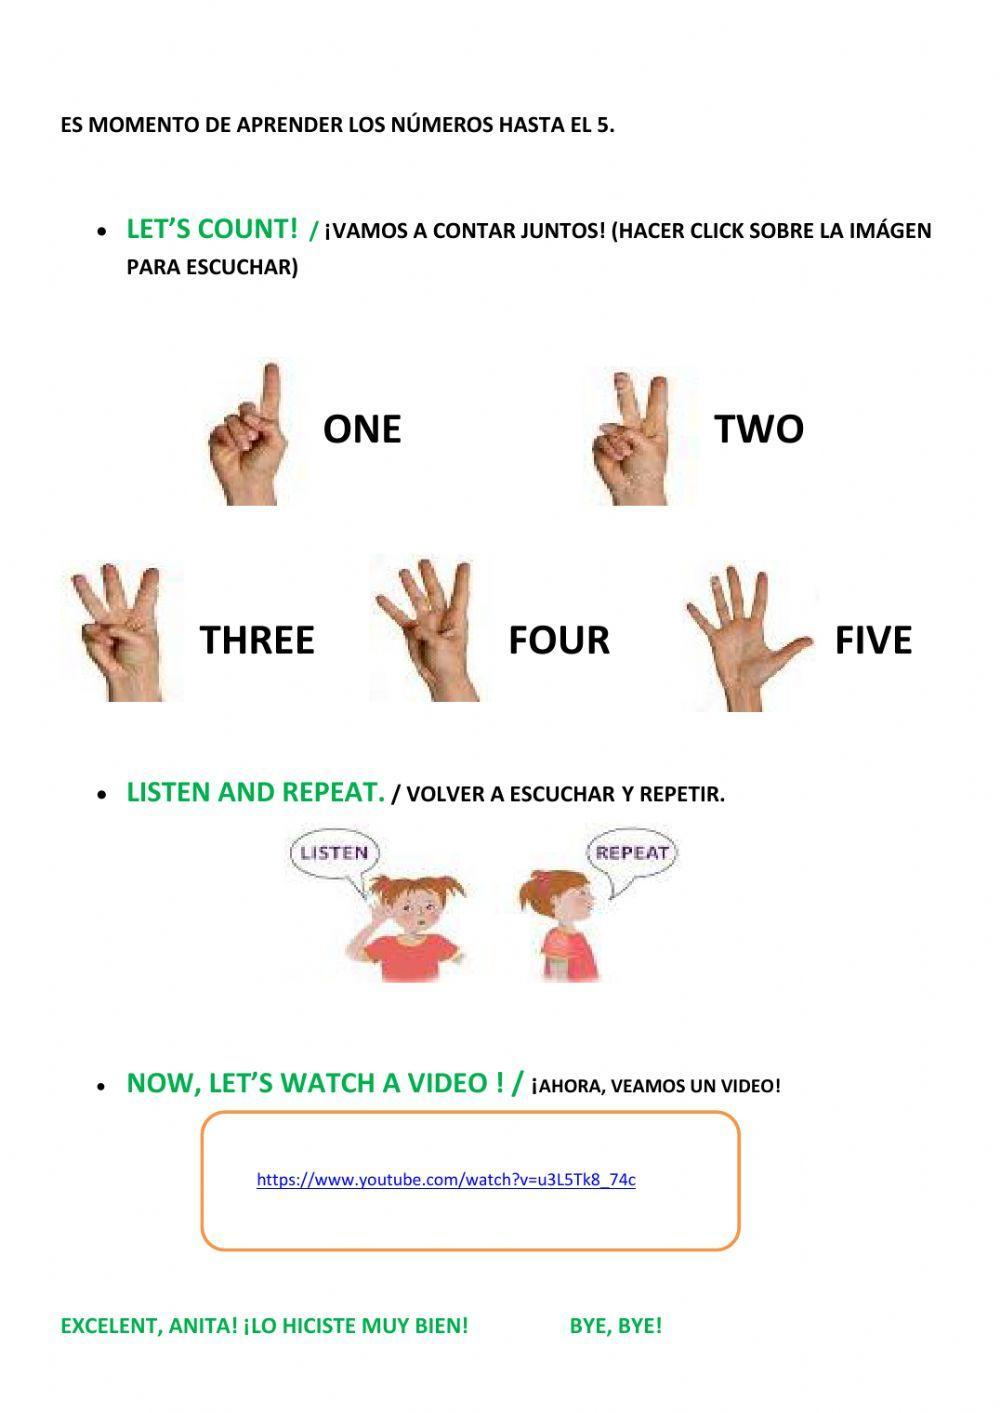Hello: (660, 560, 820, 737)
